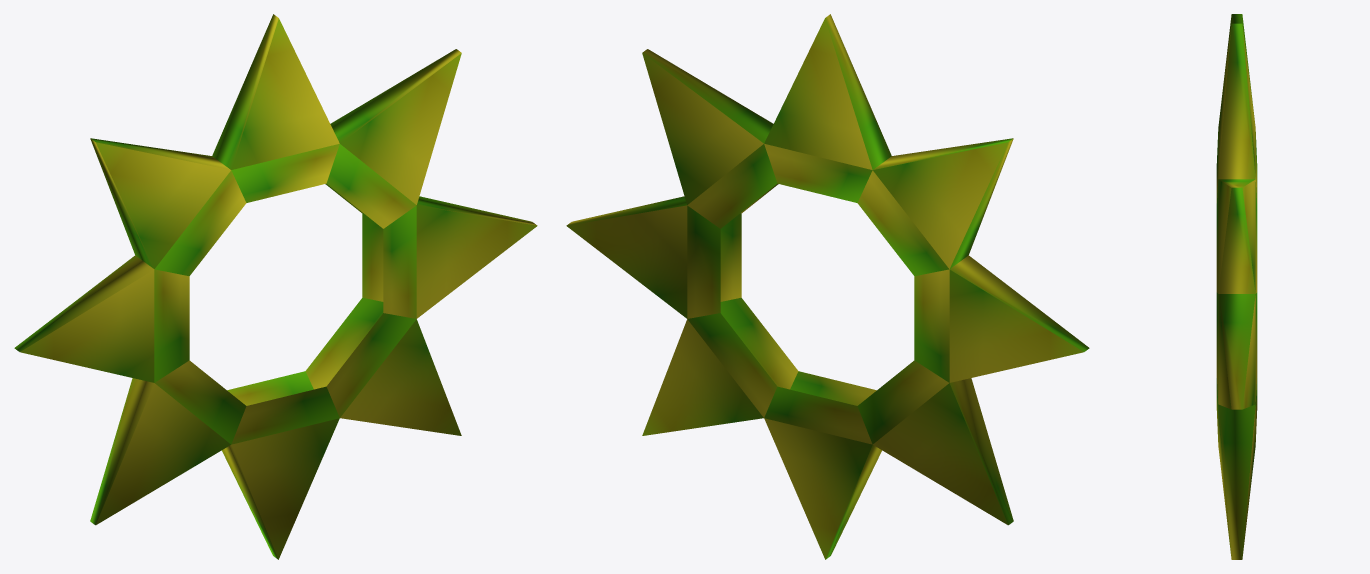
3 views of the same model, side by side, from view 1: azimuth 30°, elevation 25°; view 2: azimuth 150°, elevation 25°; view 3: azimuth 270°, elevation 25° (orthographic). The views are drawn at different scales.
Visible parts, largest first — view 1: T1L1M004_0; view 2: T1L1M004_0; view 3: T1L1M004_0.
Part boxes in pixels (box(x1,y1,x2,y2)): T1L1M004_0: box(14, 14, 537, 559); T1L1M004_0: box(566, 14, 1089, 559); T1L1M004_0: box(1216, 14, 1257, 559).
Bounding box in the file's own units: 1.63 × 1.62 × 0.6631.
